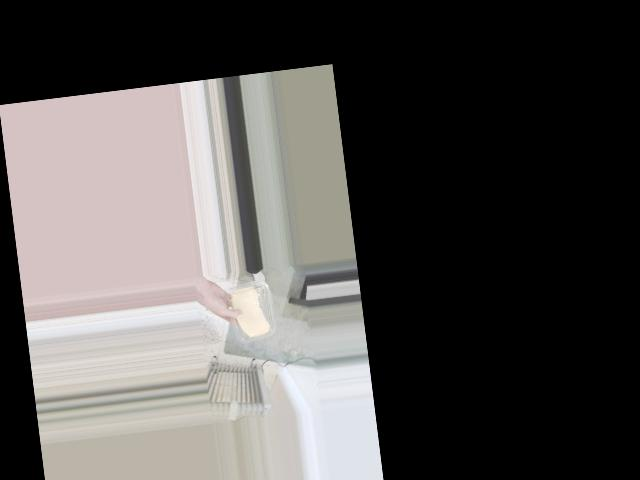cheese: (224, 280, 276, 346)
